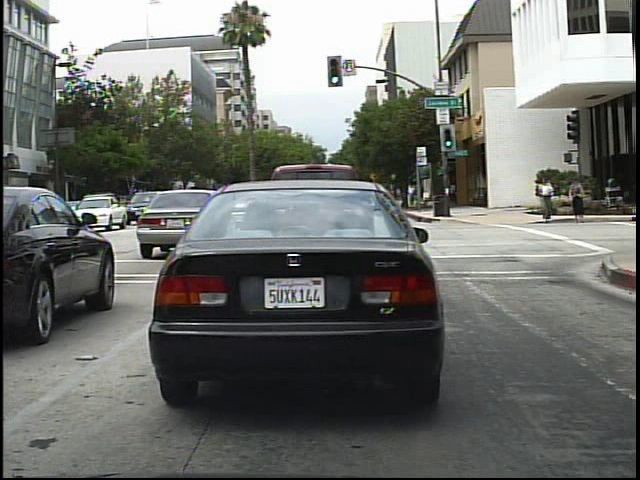person: (533, 174, 559, 228), (565, 173, 590, 227), (402, 181, 419, 212)
